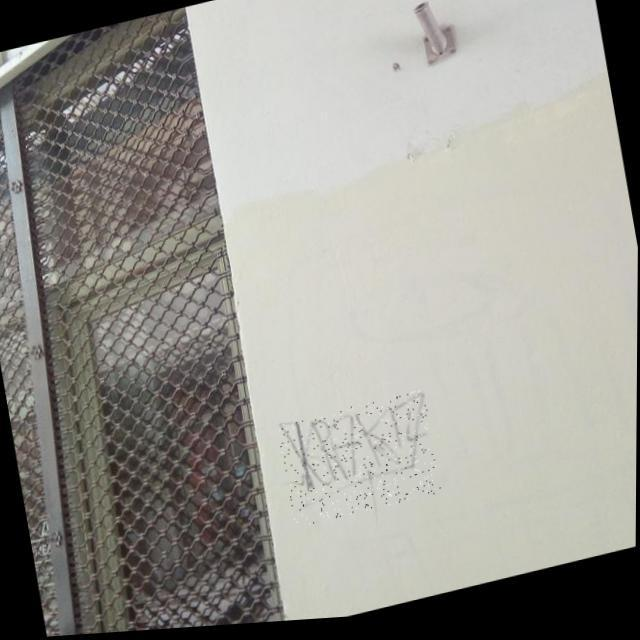-: (276, 393, 442, 532)
